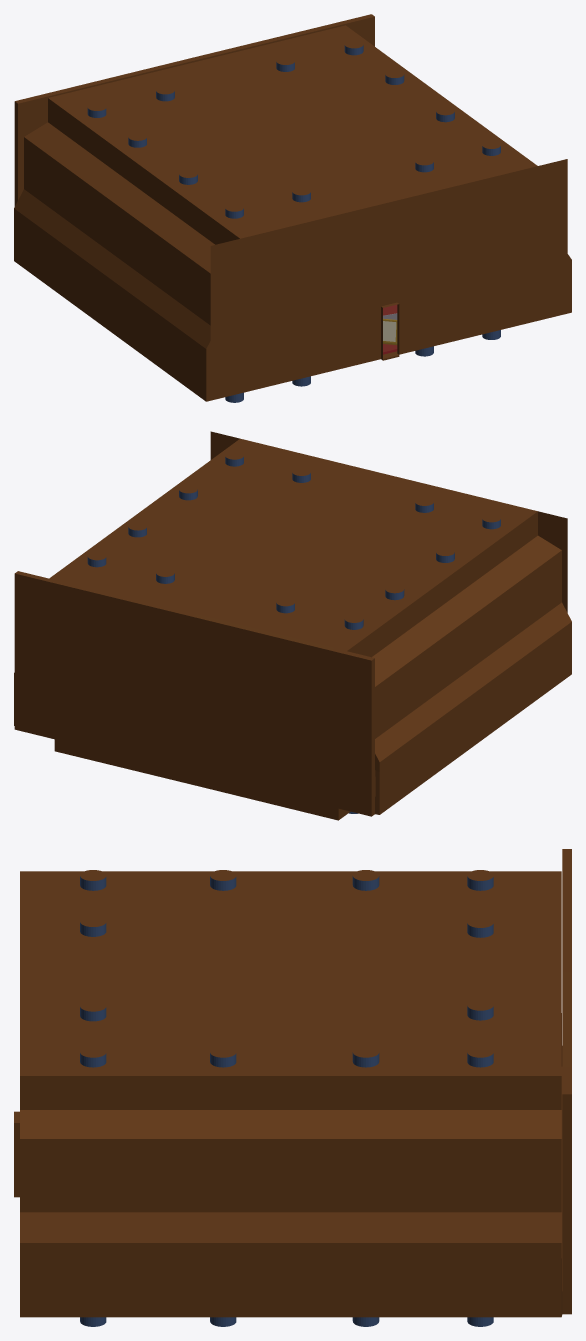
Rendered from ballRoom.fbx.
3 views of the same model, one above another, from view 1: azimuth 30°, elevation 25°; view 2: azimuth 150°, elevation 25°; view 3: azimuth 270°, elevation 25° (orthographic). The views are drawn at different scales.
Parts seen in each view (by area): view 1: bussinessOffice; view 2: bussinessOffice; view 3: bussinessOffice.
Boxes of the visible parts, x1=… form: bussinessOffice: x1=14, y1=14, x2=571, y2=402; bussinessOffice: x1=14, y1=431, x2=571, y2=820; bussinessOffice: x1=14, y1=849, x2=571, y2=1326.
Size of the model in its own units: 4500 by 2247 by 4222.
